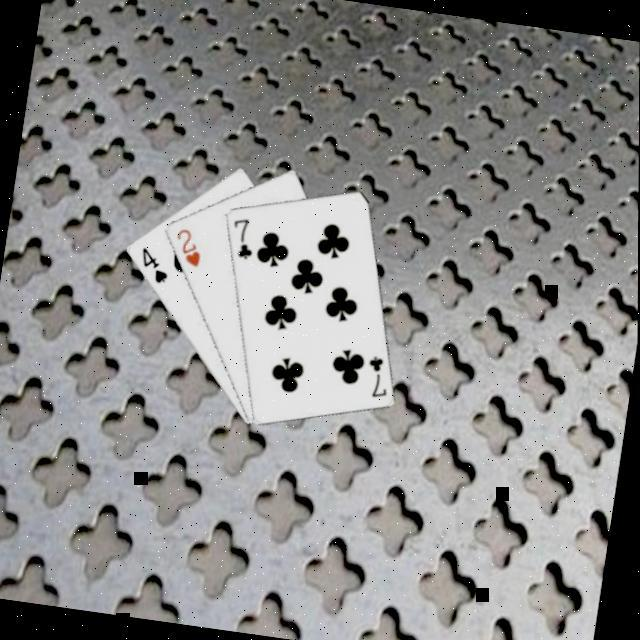2H: (168, 223, 206, 269)
4S: (134, 242, 173, 286)
7C: (360, 350, 395, 401), (224, 212, 259, 262)
